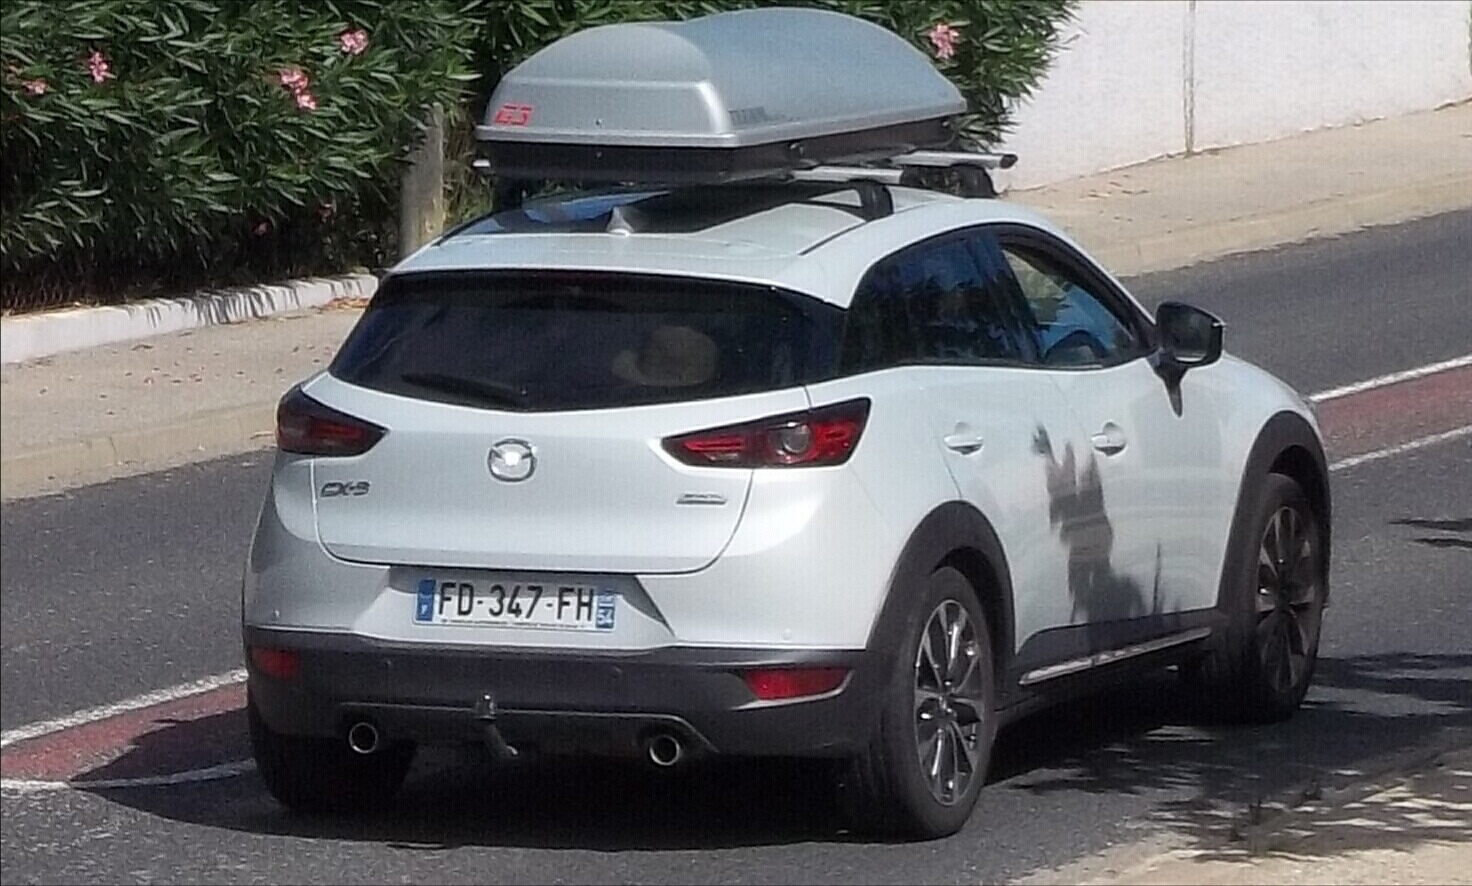licence plate: (410, 572, 622, 635)
